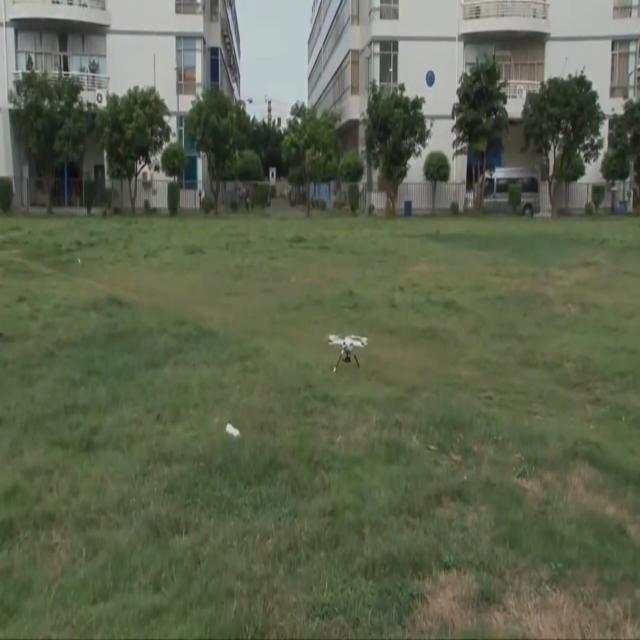drone: (327, 332, 368, 373)
